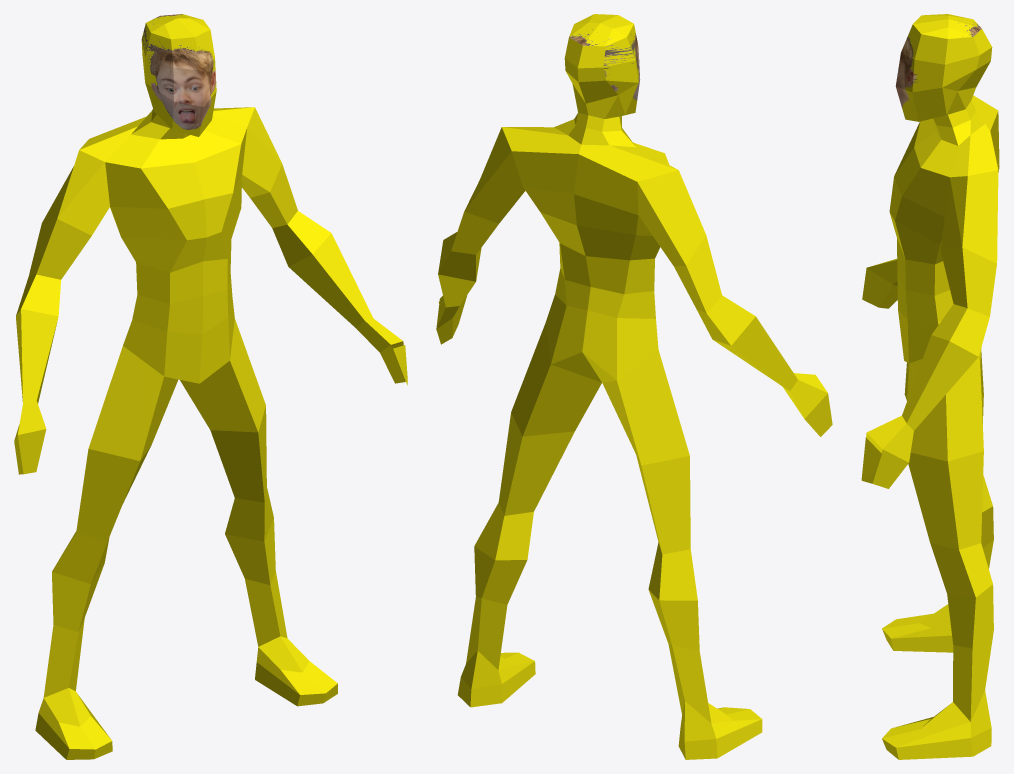
Rendered from Human.glb.
3 views of the same model, side by side, from view 1: azimuth 30°, elevation 25°; view 2: azimuth 150°, elevation 25°; view 3: azimuth 270°, elevation 25° (orthographic). The views are drawn at different scales.
Visible parts, largest first — view 1: BASE_Low_Poly_Man_Cube.001; view 2: BASE_Low_Poly_Man_Cube.001; view 3: BASE_Low_Poly_Man_Cube.001.
Part boxes in pixels (bbox=[...]): BASE_Low_Poly_Man_Cube.001: bbox=[14, 14, 407, 759]; BASE_Low_Poly_Man_Cube.001: bbox=[436, 14, 832, 759]; BASE_Low_Poly_Man_Cube.001: bbox=[861, 14, 999, 759].
Bounding box in the file's own units: 0.9698 × 1.65 × 0.3055.
Materials: 1 (1 with a texture image).
